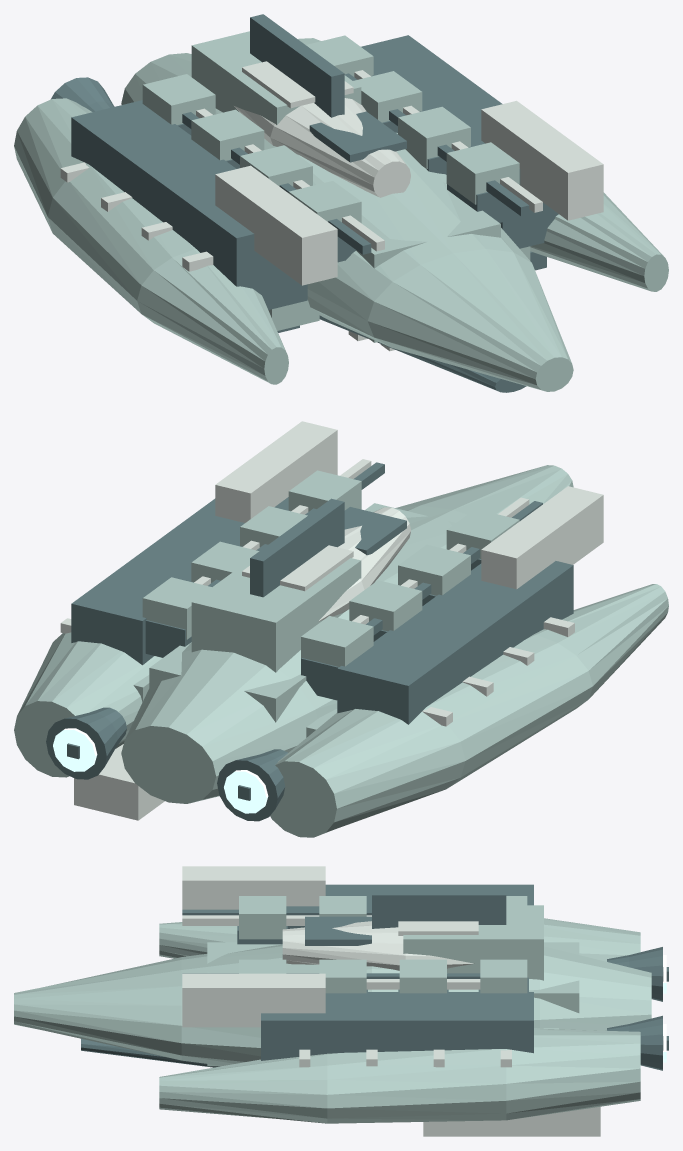
3 views of the same model, one above another, from view 1: azimuth 30°, elevation 25°; view 2: azimuth 150°, elevation 25°; view 3: azimuth 270°, elevation 25° (orthographic). The views are drawn at different scales.
Bounding box in the file's own units: 17.31 × 8.5 × 26.07.
